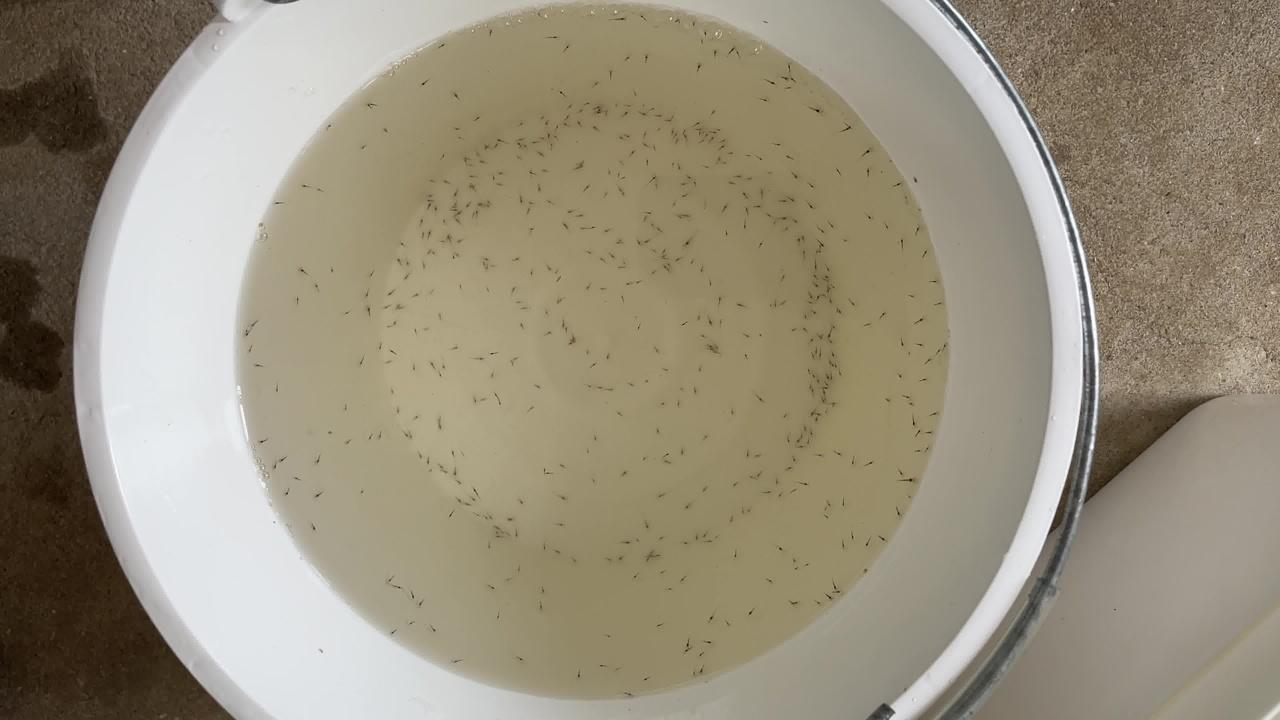shrimp: (809, 344, 822, 352), (824, 339, 837, 347), (815, 334, 828, 342), (811, 267, 824, 275), (772, 300, 785, 308), (915, 222, 928, 230), (800, 478, 813, 486), (745, 505, 758, 513), (725, 516, 738, 524), (690, 533, 703, 541), (640, 522, 653, 530), (621, 538, 634, 546), (652, 622, 665, 630), (709, 350, 722, 358), (708, 317, 721, 325), (704, 317, 717, 325), (713, 317, 726, 325), (714, 294, 727, 302), (704, 278, 717, 286), (652, 345, 665, 353), (556, 494, 569, 502), (515, 655, 528, 663), (513, 566, 526, 574), (462, 499, 475, 507), (411, 450, 424, 458), (431, 417, 444, 425), (487, 350, 500, 358), (484, 372, 497, 380), (563, 328, 576, 336), (383, 577, 396, 585), (392, 300, 405, 308), (521, 306, 534, 314), (507, 284, 520, 292), (393, 239, 406, 247), (631, 239, 644, 247), (616, 261, 629, 269), (596, 256, 609, 264), (774, 211, 787, 219), (765, 212, 778, 220), (736, 190, 749, 198), (744, 151, 757, 159), (761, 95, 774, 103), (670, 112, 683, 120), (595, 112, 608, 120), (642, 51, 655, 59), (731, 46, 744, 54), (560, 117, 573, 125), (448, 90, 461, 98), (438, 40, 451, 48), (450, 123, 463, 131), (452, 134, 465, 142), (434, 150, 447, 158), (423, 201, 436, 209), (463, 184, 476, 192), (462, 200, 475, 208), (442, 178, 455, 186), (586, 222, 599, 230), (576, 212, 589, 220), (521, 139, 534, 147), (361, 101, 374, 109), (361, 101, 374, 109), (380, 128, 393, 136), (270, 200, 283, 208), (238, 333, 251, 341), (242, 345, 255, 353), (340, 406, 353, 414), (598, 283, 611, 291), (682, 646, 694, 654), (682, 639, 694, 647), (698, 664, 710, 672), (686, 671, 698, 679), (699, 651, 711, 659), (703, 637, 715, 645), (704, 613, 716, 621), (722, 619, 734, 627), (747, 608, 759, 616), (783, 597, 795, 605), (788, 597, 800, 605), (810, 600, 822, 608), (826, 595, 838, 603), (834, 589, 846, 597), (828, 584, 840, 592), (859, 539, 871, 547), (879, 534, 891, 542), (849, 533, 861, 541), (838, 543, 850, 551), (773, 544, 785, 552), (762, 578, 774, 586), (787, 552, 799, 560), (803, 559, 815, 567), (790, 566, 802, 574), (822, 514, 834, 522), (816, 503, 828, 511), (823, 503, 835, 511), (836, 501, 848, 509), (893, 509, 905, 517), (909, 475, 921, 483), (897, 470, 909, 478), (913, 444, 925, 452), (922, 443, 934, 451), (912, 426, 924, 434), (927, 429, 939, 437), (907, 418, 919, 426), (932, 409, 944, 417), (907, 401, 919, 409), (903, 393, 915, 401), (882, 394, 894, 402), (895, 372, 907, 380), (923, 375, 935, 383), (925, 357, 937, 365), (932, 345, 944, 353), (942, 338, 954, 346), (915, 338, 927, 346), (897, 341, 909, 349), (919, 314, 931, 322), (936, 299, 948, 307), (932, 277, 944, 285), (911, 294, 923, 302), (878, 309, 890, 317), (865, 319, 877, 327), (866, 457, 878, 465), (850, 460, 862, 468), (832, 449, 844, 457), (795, 444, 807, 452), (801, 436, 813, 444), (793, 435, 805, 443), (809, 428, 821, 436), (798, 422, 810, 430), (783, 435, 795, 443), (811, 417, 823, 425), (813, 411, 825, 419), (806, 409, 818, 417), (829, 398, 841, 406), (830, 398, 842, 406), (817, 399, 829, 407), (820, 389, 832, 397), (828, 372, 840, 380), (684, 505, 696, 513), (629, 571, 641, 579), (695, 367, 707, 375), (651, 427, 663, 435), (779, 273, 791, 281), (490, 527, 502, 535), (418, 599, 430, 607), (418, 261, 430, 269), (424, 245, 436, 253), (540, 262, 552, 270), (679, 212, 691, 220), (718, 134, 730, 142), (779, 73, 791, 81), (651, 139, 663, 147), (640, 129, 652, 137), (623, 51, 635, 59), (562, 40, 574, 48), (590, 78, 602, 86), (613, 134, 625, 142), (540, 117, 552, 125), (529, 139, 541, 147), (480, 156, 492, 164), (424, 195, 436, 203), (313, 283, 325, 291), (269, 461, 281, 469), (810, 387, 823, 394), (803, 384, 816, 391), (819, 373, 832, 380), (822, 379, 835, 386), (812, 378, 825, 385), (806, 373, 819, 380), (806, 369, 819, 376), (804, 354, 817, 361), (815, 352, 828, 359), (821, 360, 834, 367), (827, 361, 840, 368), (824, 329, 837, 336), (836, 307, 849, 314), (802, 325, 815, 332), (807, 308, 820, 315), (801, 300, 814, 307), (813, 294, 826, 301), (804, 291, 817, 298), (821, 288, 834, 295), (823, 286, 836, 293), (822, 277, 835, 284), (822, 272, 835, 279), (848, 299, 861, 306), (812, 248, 825, 255), (816, 243, 829, 250), (753, 395, 766, 402), (781, 298, 794, 305), (797, 248, 810, 255), (791, 237, 804, 244), (800, 232, 813, 239), (815, 225, 828, 232), (826, 221, 839, 228), (739, 351, 752, 358), (921, 248, 934, 255), (895, 236, 908, 243), (881, 219, 894, 226), (866, 213, 879, 220), (894, 180, 907, 187), (897, 191, 910, 198), (786, 485, 799, 492), (776, 491, 789, 498), (758, 488, 771, 495), (770, 476, 783, 483), (784, 462, 797, 469), (754, 471, 767, 478), (746, 473, 759, 480), (753, 451, 766, 458), (743, 452, 756, 459), (738, 509, 751, 516), (729, 552, 742, 559), (704, 538, 717, 545), (699, 531, 712, 538), (651, 552, 664, 559), (641, 552, 654, 559), (699, 485, 712, 492), (655, 494, 668, 501), (677, 574, 690, 581), (664, 588, 677, 595), (603, 556, 616, 563), (611, 555, 624, 562), (627, 689, 640, 696), (593, 661, 606, 668), (604, 634, 617, 641), (730, 481, 743, 488), (655, 534, 668, 541), (728, 410, 741, 417), (664, 461, 677, 468), (661, 449, 674, 456), (674, 449, 687, 456), (690, 389, 703, 396), (672, 402, 685, 409), (699, 432, 712, 439), (704, 342, 717, 349), (710, 342, 723, 349), (696, 333, 709, 340), (677, 319, 690, 326), (733, 301, 746, 308), (692, 313, 705, 320), (659, 366, 672, 373), (619, 468, 632, 475), (615, 412, 628, 419), (590, 434, 603, 441), (584, 447, 597, 454), (558, 461, 571, 468), (545, 471, 558, 478), (556, 521, 569, 528), (570, 560, 583, 567), (549, 547, 562, 554), (539, 543, 552, 550), (537, 587, 550, 594), (494, 611, 507, 618), (489, 584, 502, 591), (492, 534, 505, 541), (511, 532, 524, 539), (504, 518, 517, 525), (515, 497, 528, 504), (487, 512, 500, 519), (480, 516, 493, 523), (473, 512, 486, 519), (467, 493, 480, 500), (452, 495, 465, 502), (452, 479, 465, 486), (451, 471, 464, 478), (446, 449, 459, 456), (441, 471, 454, 478), (436, 463, 449, 470), (422, 456, 435, 463), (398, 432, 411, 439), (403, 432, 416, 439), (411, 412, 424, 419), (390, 403, 403, 410), (388, 387, 401, 394), (380, 360, 393, 367), (384, 347, 397, 354), (411, 365, 424, 372), (425, 359, 438, 366), (438, 363, 451, 370), (476, 355, 489, 362), (466, 396, 479, 403), (492, 391, 505, 398), (505, 361, 518, 368), (508, 354, 521, 361), (526, 403, 539, 410), (529, 384, 542, 391), (583, 380, 596, 387), (593, 382, 606, 389), (604, 385, 617, 392), (601, 351, 614, 358), (590, 362, 603, 369), (558, 321, 571, 328), (543, 327, 556, 334), (513, 322, 526, 329), (626, 382, 639, 389), (448, 656, 461, 663), (427, 625, 440, 632), (393, 584, 406, 591), (388, 628, 401, 635), (385, 324, 398, 331), (381, 305, 394, 312), (419, 328, 432, 335), (434, 312, 447, 319), (484, 285, 497, 292), (454, 285, 467, 292), (425, 286, 438, 293), (412, 290, 425, 297), (385, 288, 398, 295), (399, 276, 412, 283), (392, 255, 405, 262), (403, 257, 416, 264), (417, 216, 430, 223), (438, 239, 451, 246), (441, 232, 454, 239), (453, 238, 466, 245), (451, 252, 464, 259), (481, 256, 494, 263), (513, 254, 526, 261), (525, 271, 538, 278), (543, 309, 556, 316), (554, 296, 567, 303), (553, 277, 566, 284), (554, 267, 567, 274), (622, 280, 635, 287), (630, 278, 643, 285), (617, 292, 630, 299), (648, 267, 661, 274), (657, 265, 670, 272), (661, 259, 674, 266), (699, 267, 712, 274), (688, 260, 701, 267), (670, 256, 683, 263), (660, 246, 673, 253), (644, 239, 657, 246), (620, 254, 633, 261), (607, 253, 620, 260), (582, 247, 595, 254), (614, 241, 627, 248), (654, 226, 667, 233), (647, 222, 660, 229), (640, 216, 653, 223), (644, 211, 657, 218), (753, 243, 766, 250), (719, 203, 732, 210), (742, 209, 755, 216), (755, 203, 768, 210), (759, 189, 772, 196), (809, 203, 822, 210), (787, 194, 800, 201), (779, 199, 792, 206), (863, 146, 876, 153), (832, 167, 845, 174), (844, 126, 857, 133), (844, 124, 857, 131), (813, 107, 826, 114), (809, 183, 822, 190), (790, 172, 803, 179), (785, 155, 798, 162), (749, 174, 762, 181), (726, 180, 739, 187), (734, 172, 747, 179), (726, 147, 739, 154), (719, 143, 732, 150), (714, 156, 727, 163), (714, 124, 727, 131), (689, 115, 702, 122), (691, 123, 704, 130), (697, 136, 710, 143), (680, 134, 693, 141), (786, 74, 799, 81), (785, 66, 798, 73), (664, 126, 677, 133), (669, 130, 682, 137), (670, 137, 683, 144), (665, 162, 678, 169), (671, 163, 684, 170), (679, 168, 692, 175), (690, 177, 703, 184), (678, 192, 691, 199), (647, 174, 660, 181), (639, 142, 652, 149), (655, 112, 668, 119), (646, 103, 659, 110), (636, 111, 649, 118), (621, 108, 634, 115), (595, 107, 608, 114), (591, 103, 604, 110), (604, 69, 617, 76), (691, 62, 704, 69), (709, 47, 722, 54), (723, 45, 736, 52), (616, 17, 629, 24), (548, 32, 561, 39), (554, 89, 567, 96), (631, 87, 644, 94), (582, 97, 595, 104), (576, 105, 589, 112), (574, 120, 587, 127), (560, 113, 573, 120), (589, 124, 602, 131), (620, 130, 633, 137), (626, 149, 639, 156), (616, 158, 629, 165), (619, 173, 632, 180), (617, 188, 630, 195), (600, 168, 613, 175), (580, 181, 593, 188), (576, 160, 589, 167), (552, 133, 565, 140), (542, 134, 555, 141), (534, 150, 547, 157), (514, 120, 527, 127), (487, 29, 500, 36), (417, 81, 430, 88), (492, 133, 505, 140), (492, 141, 505, 148), (481, 142, 494, 149), (457, 154, 470, 161), (461, 154, 474, 161), (470, 150, 483, 157), (426, 175, 439, 182), (423, 188, 436, 195), (428, 207, 441, 214), (452, 221, 465, 228), (453, 209, 466, 216), (447, 205, 460, 212), (449, 195, 462, 202), (485, 202, 498, 209), (469, 209, 482, 216), (463, 171, 476, 178), (497, 182, 510, 189), (488, 174, 501, 181), (526, 224, 539, 231), (574, 225, 587, 232), (558, 224, 571, 231), (567, 207, 580, 214), (543, 198, 556, 205), (530, 184, 543, 191), (524, 169, 537, 176), (524, 169, 537, 176), (513, 142, 526, 149), (515, 136, 528, 143), (510, 156, 523, 163), (513, 196, 526, 203), (525, 197, 538, 204), (604, 227, 617, 234), (581, 348, 594, 355), (358, 145, 371, 152), (298, 182, 311, 189), (363, 270, 376, 277), (359, 290, 372, 297), (361, 306, 374, 313), (254, 362, 267, 369), (270, 387, 283, 394), (290, 297, 303, 304), (355, 358, 368, 365), (377, 433, 390, 440), (365, 433, 378, 440), (341, 438, 354, 445), (308, 458, 321, 465), (309, 494, 322, 501), (290, 474, 303, 481), (282, 490, 295, 497), (256, 436, 269, 443), (323, 430, 336, 437), (677, 537, 690, 544), (585, 476, 598, 483), (633, 321, 646, 328), (599, 189, 612, 196), (641, 159, 654, 166), (341, 310, 354, 317), (313, 187, 326, 194), (782, 412, 795, 419), (323, 123, 336, 130), (828, 349, 840, 356), (828, 299, 840, 306), (812, 279, 824, 286), (740, 331, 752, 338), (861, 164, 873, 171), (817, 448, 829, 455), (789, 452, 801, 459), (573, 672, 585, 679), (640, 676, 652, 683), (789, 327, 801, 334), (541, 465, 553, 472), (535, 604, 547, 611), (507, 574, 519, 581), (485, 542, 497, 549), (468, 485, 480, 492), (446, 512, 458, 519), (374, 341, 386, 348), (452, 340, 464, 347), (568, 336, 580, 343), (408, 591, 420, 598), (407, 620, 419, 627), (408, 326, 420, 333), (397, 303, 409, 310), (518, 300, 530, 307), (418, 226, 430, 233), (424, 226, 436, 233), (585, 282, 597, 289), (685, 237, 697, 244), (613, 236, 625, 243), (740, 224, 752, 231), (789, 217, 801, 224), (778, 143, 790, 150), (756, 153, 768, 160), (707, 137, 719, 144), (707, 131, 719, 138), (679, 125, 691, 132), (706, 112, 718, 119), (768, 78, 780, 85), (662, 117, 674, 124), (679, 179, 691, 186), (563, 101, 575, 108), (613, 167, 625, 174), (551, 123, 563, 130), (474, 113, 486, 120), (474, 198, 486, 205), (496, 164, 508, 171), (540, 166, 552, 173), (524, 204, 536, 211), (668, 200, 680, 207), (297, 264, 309, 271), (247, 320, 259, 327), (308, 524, 320, 531), (280, 453, 292, 460), (657, 569, 669, 576), (640, 455, 652, 462), (635, 14, 647, 21)
